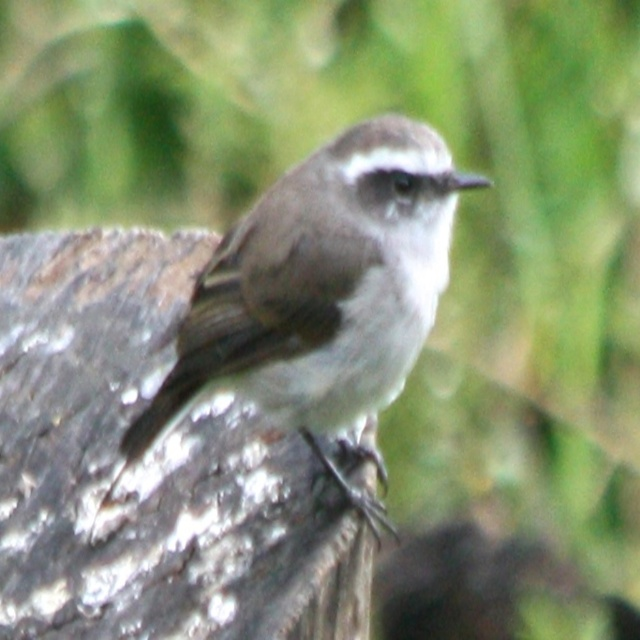Sparrow: (89, 113, 494, 554)
